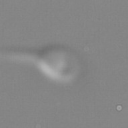normal: (1, 46, 39, 68)
